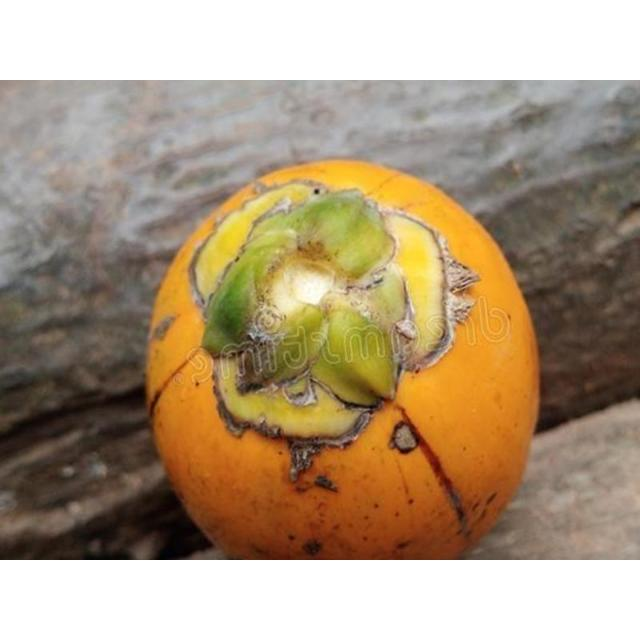good: (146, 159, 542, 559)
